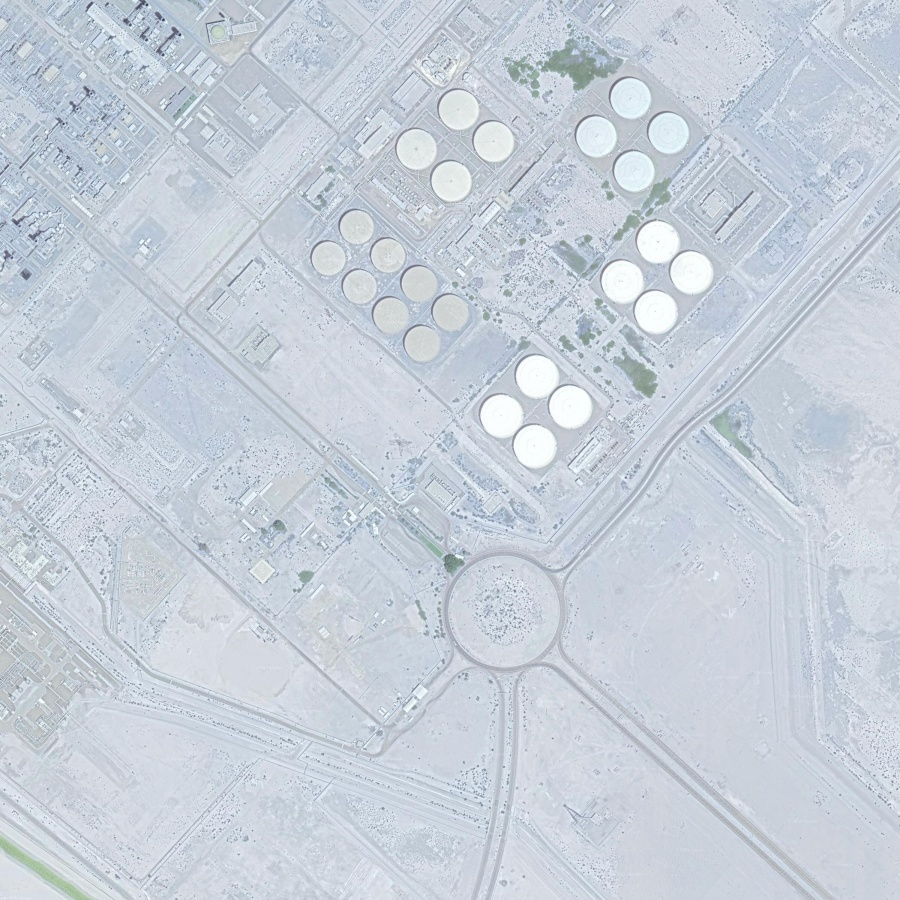PowerPlant: (301, 28, 751, 488)
